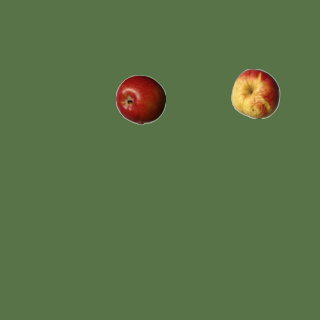Apple Braeburn: (115, 74, 165, 124)
Apple Red Yellow 1: (230, 68, 280, 118)
